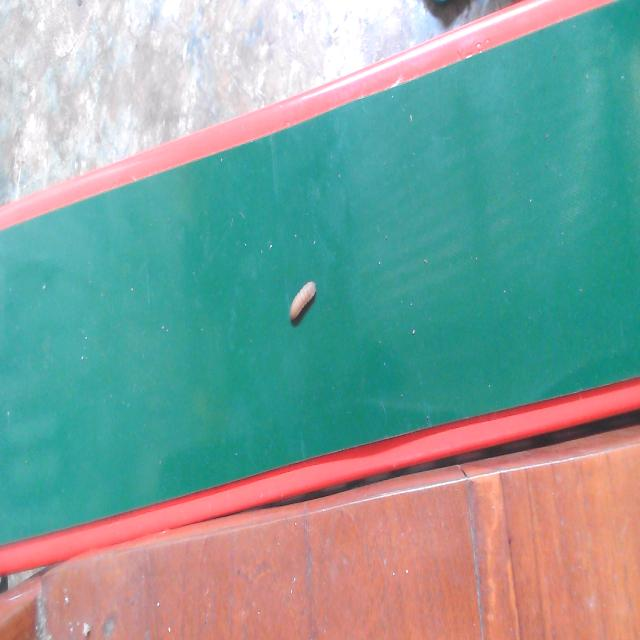Maggot: (287, 283, 316, 328)
